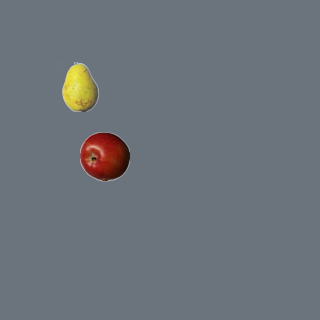Apple Braeburn: (79, 131, 129, 181)
Pear Monster: (55, 61, 105, 111)
